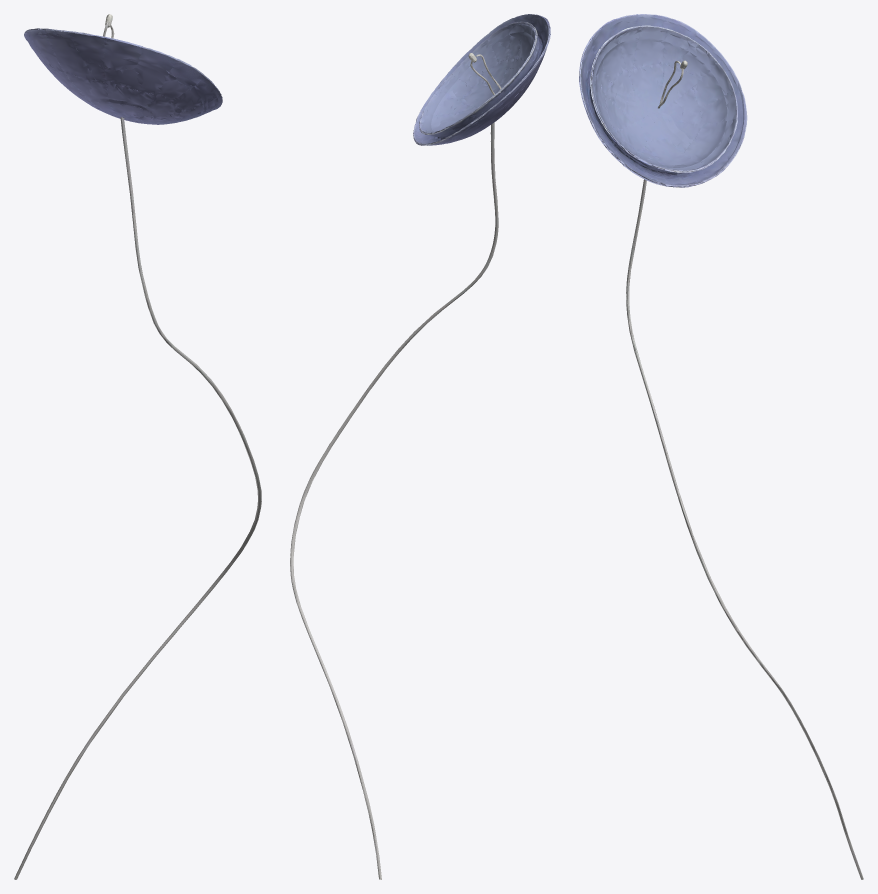
The model's file is 11_7_hamu_cnk_lila.glb.
3 renders of one model, left to right at view 1: azimuth 30°, elevation 25°; view 2: azimuth 150°, elevation 25°; view 3: azimuth 270°, elevation 25°, orthographic. The views are drawn at different scales.
Parts seen in each view (by area): view 1: tripo_node_22387682-e46e-41e9-b20e-e7e9c88a6d92; view 2: tripo_node_22387682-e46e-41e9-b20e-e7e9c88a6d92; view 3: tripo_node_22387682-e46e-41e9-b20e-e7e9c88a6d92.
Boxes of the visible parts, x1,y1,x2,y2 form: tripo_node_22387682-e46e-41e9-b20e-e7e9c88a6d92: (14, 14, 261, 879); tripo_node_22387682-e46e-41e9-b20e-e7e9c88a6d92: (290, 14, 550, 879); tripo_node_22387682-e46e-41e9-b20e-e7e9c88a6d92: (579, 14, 863, 879).
Bounding box in the file's own units: 0.1399 × 0.4979 × 0.154.
1 material, 1 textured.
